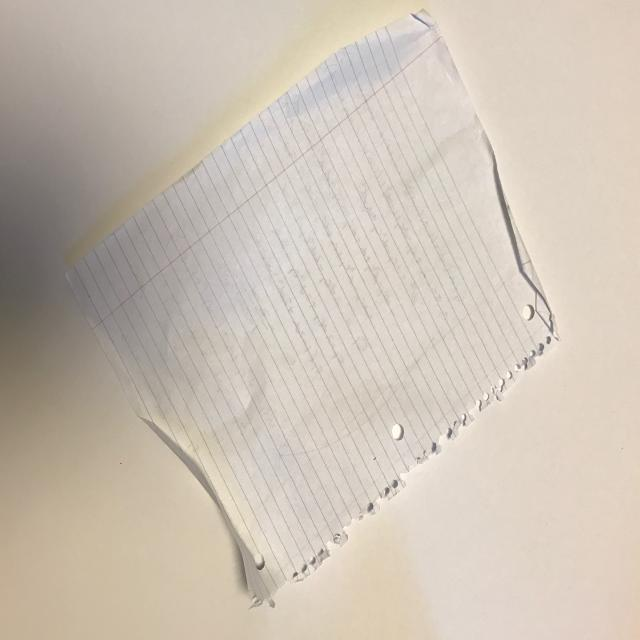paper: (57, 0, 562, 615)
